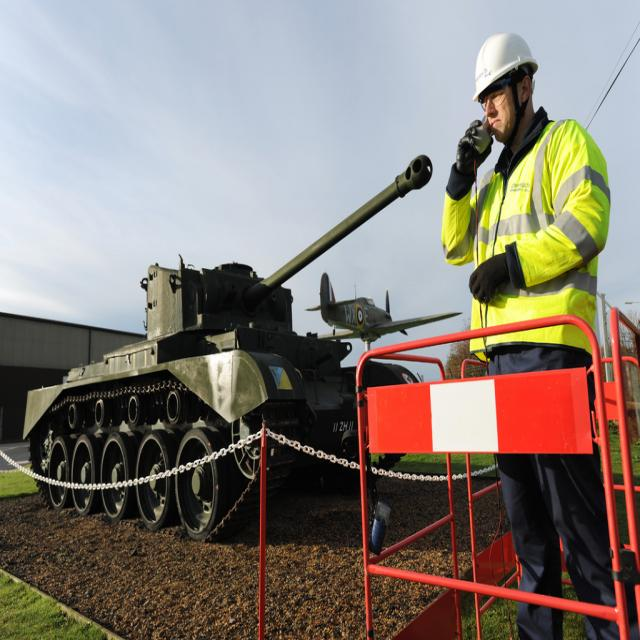tank: (21, 150, 433, 543)
